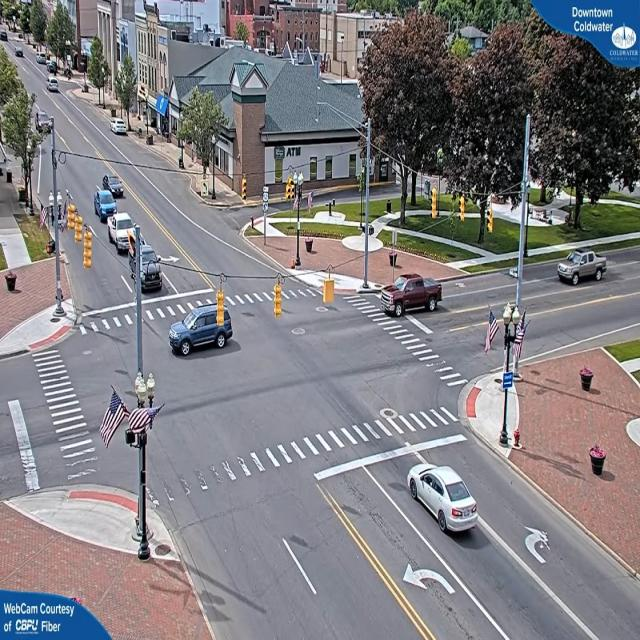car: (411, 466, 479, 534), (166, 296, 232, 356), (384, 274, 443, 314), (556, 248, 608, 286), (139, 243, 163, 293), (109, 214, 134, 253), (94, 186, 118, 222), (100, 174, 124, 210), (105, 174, 126, 200), (112, 121, 130, 138), (47, 79, 60, 94), (15, 48, 25, 59), (0, 29, 7, 40)
